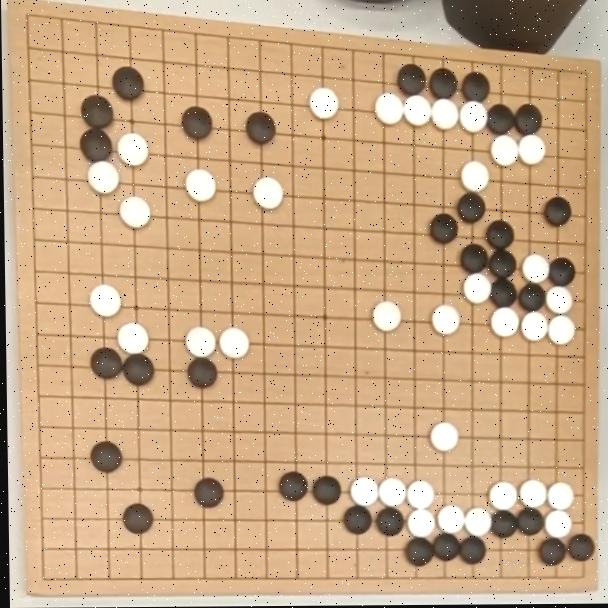corners: (23, 557, 69, 595), (12, 0, 54, 40), (566, 64, 600, 94), (558, 564, 594, 590)
